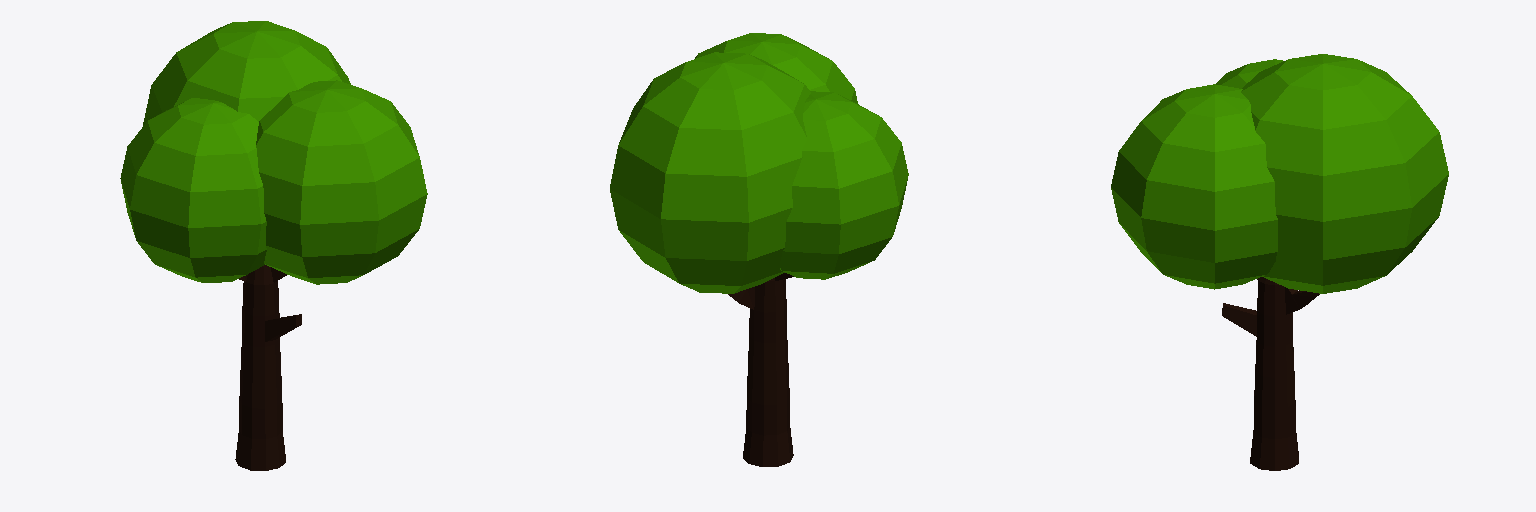
The model's file is Oak_Tree_01.obj.
3 views of the same model, side by side, from view 1: azimuth 30°, elevation 25°; view 2: azimuth 150°, elevation 25°; view 3: azimuth 270°, elevation 25° (orthographic).
Parts seen in each view (by area): view 1: LP_LEAF_04, LP_LEAF_05, LP_LEAF_03, LP_TREE_TRUNK; view 2: LP_LEAF_03, LP_LEAF_05, LP_TREE_TRUNK, LP_LEAF_04; view 3: LP_LEAF_03, LP_LEAF_04, LP_TREE_TRUNK, LP_LEAF_05.
Part boxes in pixels (x1,y1,x2,y2): LP_LEAF_04: (256, 80, 427, 284); LP_LEAF_05: (120, 98, 266, 282); LP_LEAF_03: (143, 21, 350, 125); LP_TREE_TRUNK: (235, 265, 301, 470); LP_LEAF_03: (610, 52, 810, 293); LP_LEAF_05: (780, 91, 908, 279); LP_TREE_TRUNK: (728, 273, 793, 466); LP_LEAF_04: (695, 33, 857, 103); LP_LEAF_03: (1241, 54, 1448, 293); LP_LEAF_04: (1111, 84, 1277, 289); LP_TREE_TRUNK: (1222, 277, 1319, 470); LP_LEAF_05: (1216, 59, 1282, 88).
Size of the model in its own units: 9.45 by 14.28 by 10.77.